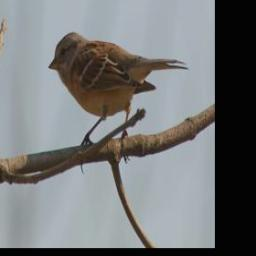Sparrow: (47, 29, 190, 173)
